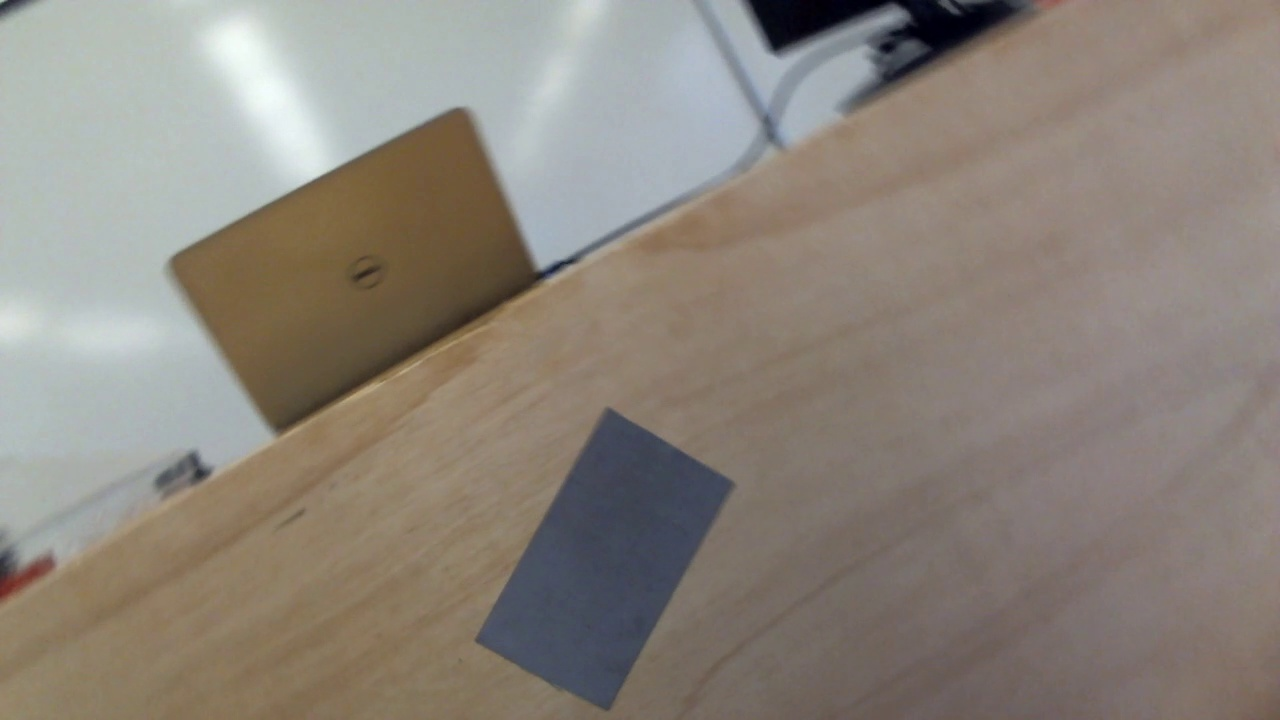Tape: (473, 407, 735, 713)
